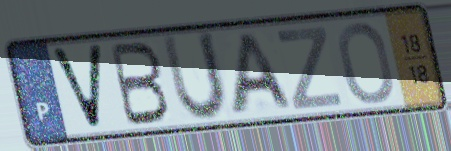A: (228, 31, 298, 118)
B: (108, 40, 173, 129)
O: (335, 19, 396, 107)
U: (158, 29, 231, 125)
V: (46, 42, 106, 134)
Z: (274, 23, 345, 112)
